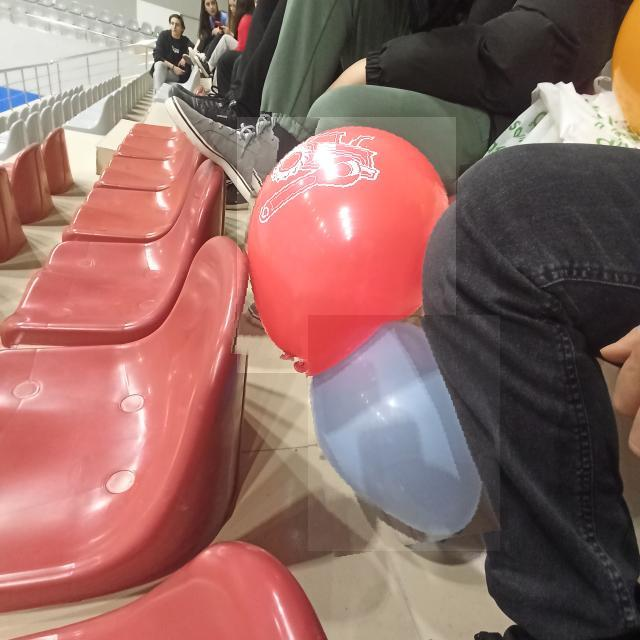balloon: (237, 117, 456, 373), (308, 316, 501, 552)
